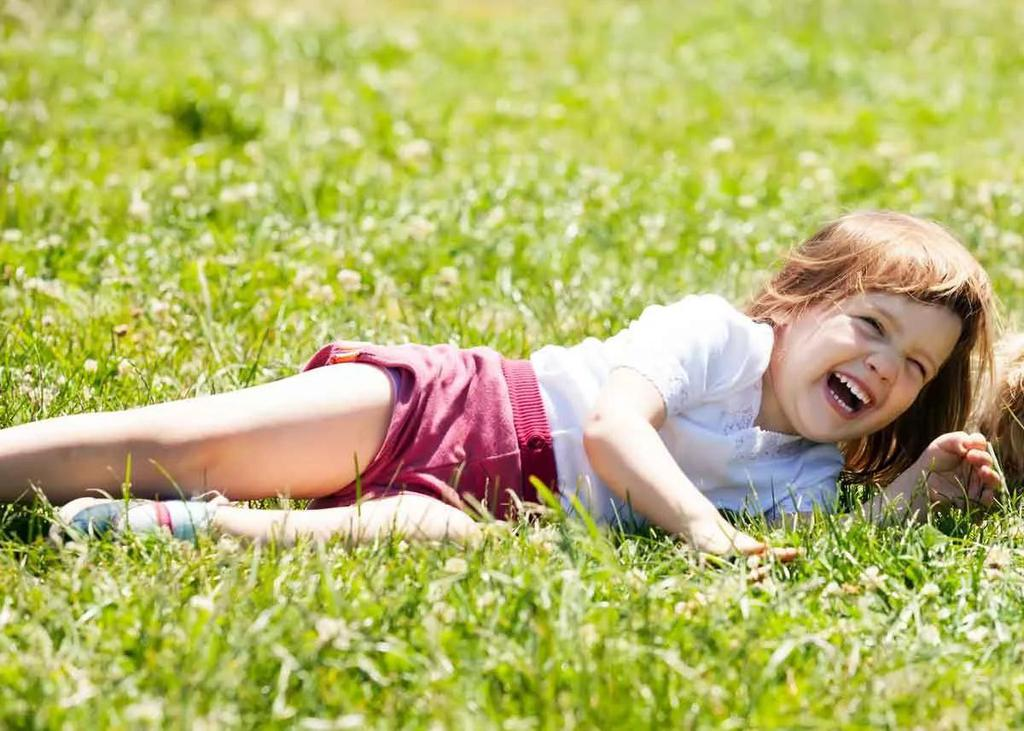child: (2, 196, 1013, 582)
